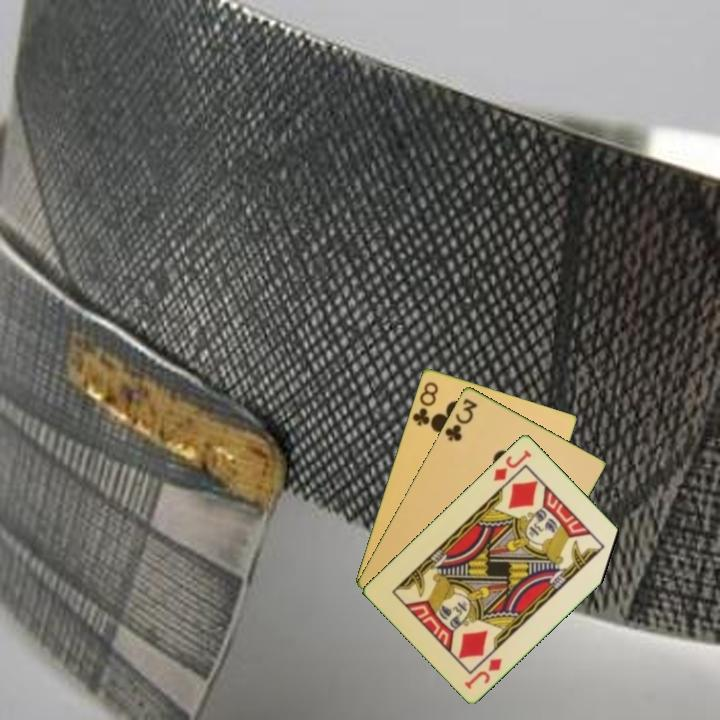3c: (441, 395, 480, 444)
8c: (409, 378, 441, 429)
Jd: (490, 446, 534, 484), (461, 654, 505, 692)
